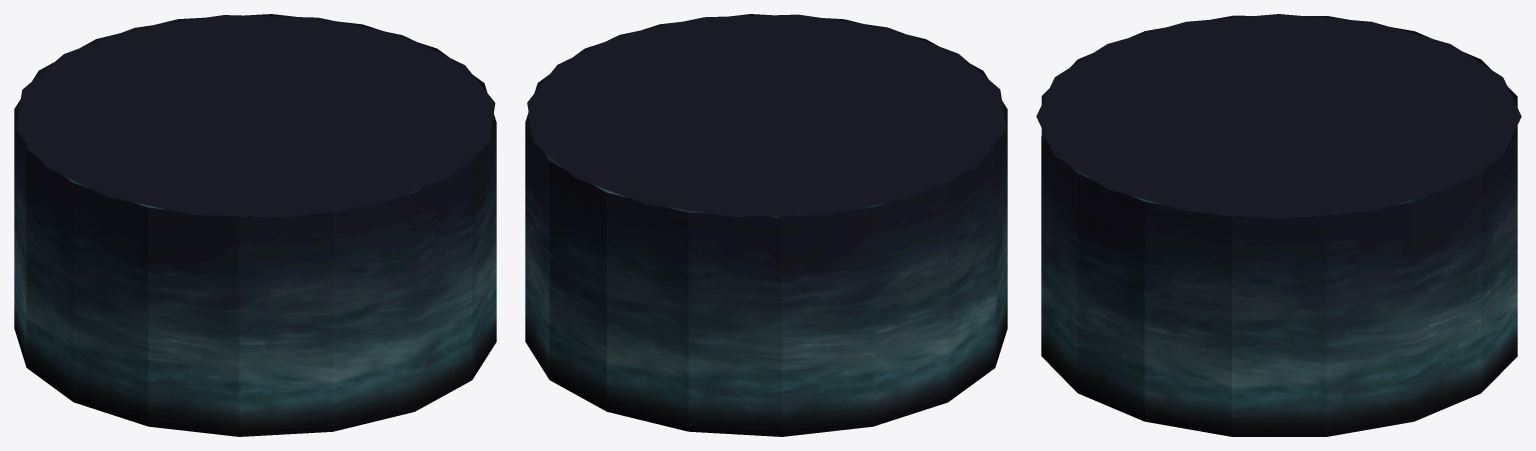
Rendered from UltimeciaCastleBridge.glb.
3 views of the same model, side by side, from view 1: azimuth 30°, elevation 25°; view 2: azimuth 150°, elevation 25°; view 3: azimuth 270°, elevation 25° (orthographic).
Visible parts, largest first — view 1: a0stg058_9356_t; view 2: a0stg058_9356_t; view 3: a0stg058_9356_t.
Boxes of the visible parts, x1,y1,x2,y2 form: a0stg058_9356_t: [14, 14, 496, 436]; a0stg058_9356_t: [525, 14, 1007, 436]; a0stg058_9356_t: [1036, 14, 1521, 436].
Size of what is drawn, in the model's own units: 300 by 150 by 300.
20 materials, 18 textured.
